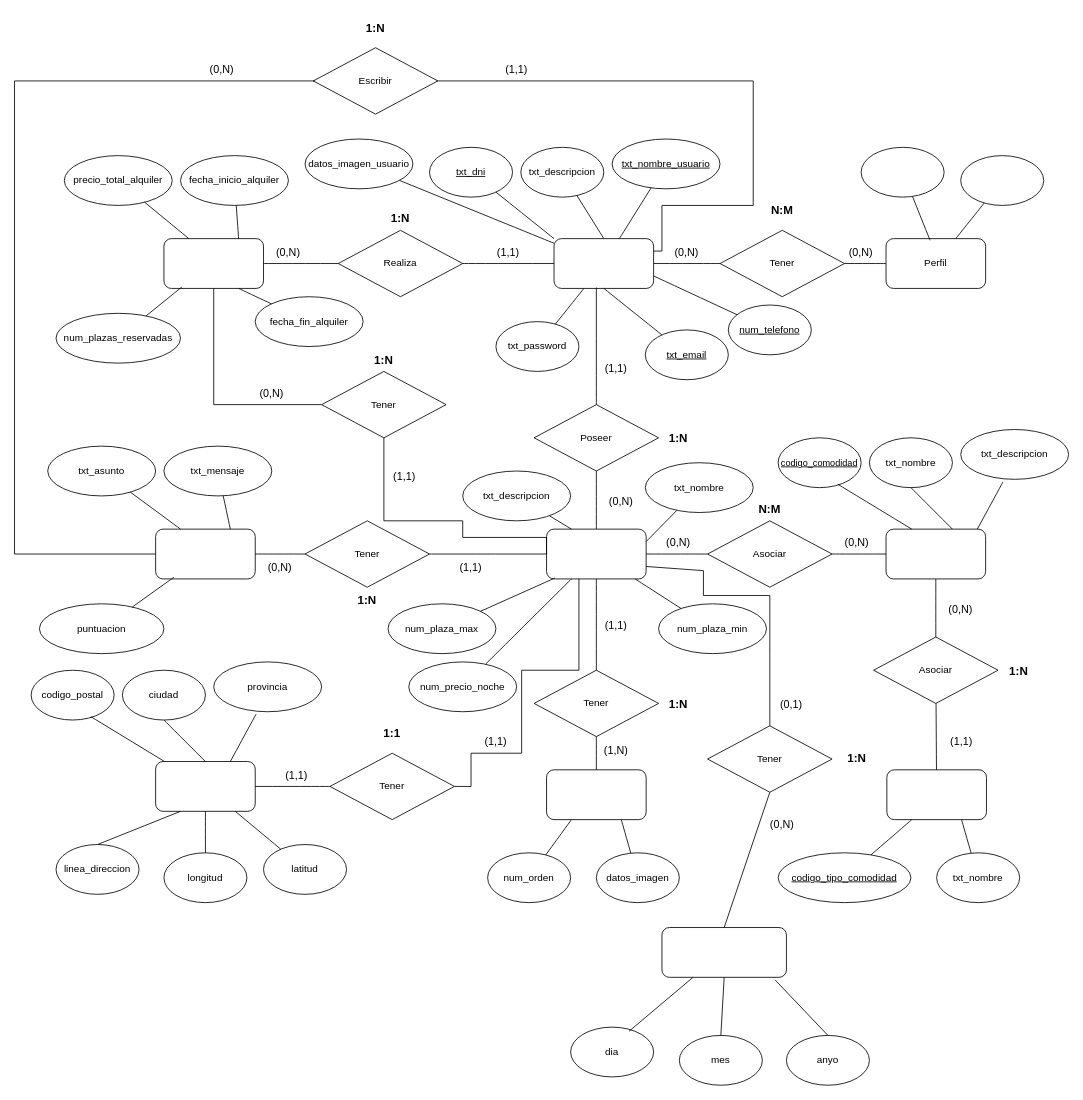
The diagram is 1083 pixels wide and 1100 high, and some of its shapes have lost their labels. The shapes that lost their labels are listed below. From the top down, each one's centre as x and y in pixels, then its label:
At point (902, 171): "cod_perfil".
At point (1002, 180): "txt_perfil".
At point (213, 263): "Alquiler_alojamiento".
At point (603, 263): "Usuario".
At point (205, 553): "Valoracion_alojamiento".
At point (596, 553): "Alojamiento".
At point (935, 553): "Comodidad_alojamiento".
At point (205, 786): "Ubicacion_alojamiento".
At point (596, 794): "Imagen_alojamiento".
At point (936, 794): "Tipo_comodidad".
At point (723, 952): "Alojamiento_dias_ocupados".
